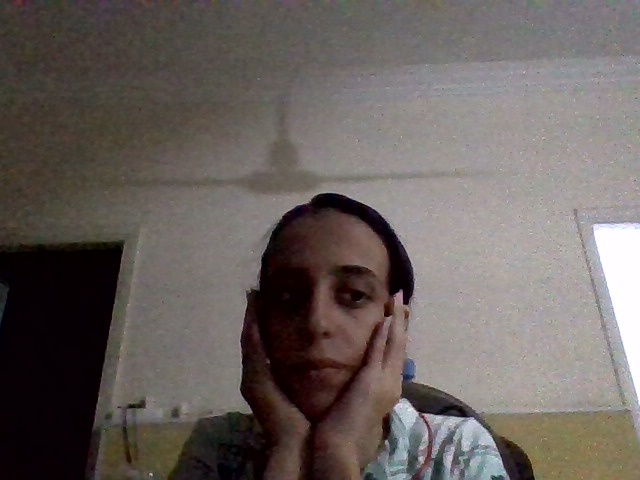ThankYou: (240, 288, 409, 454)
